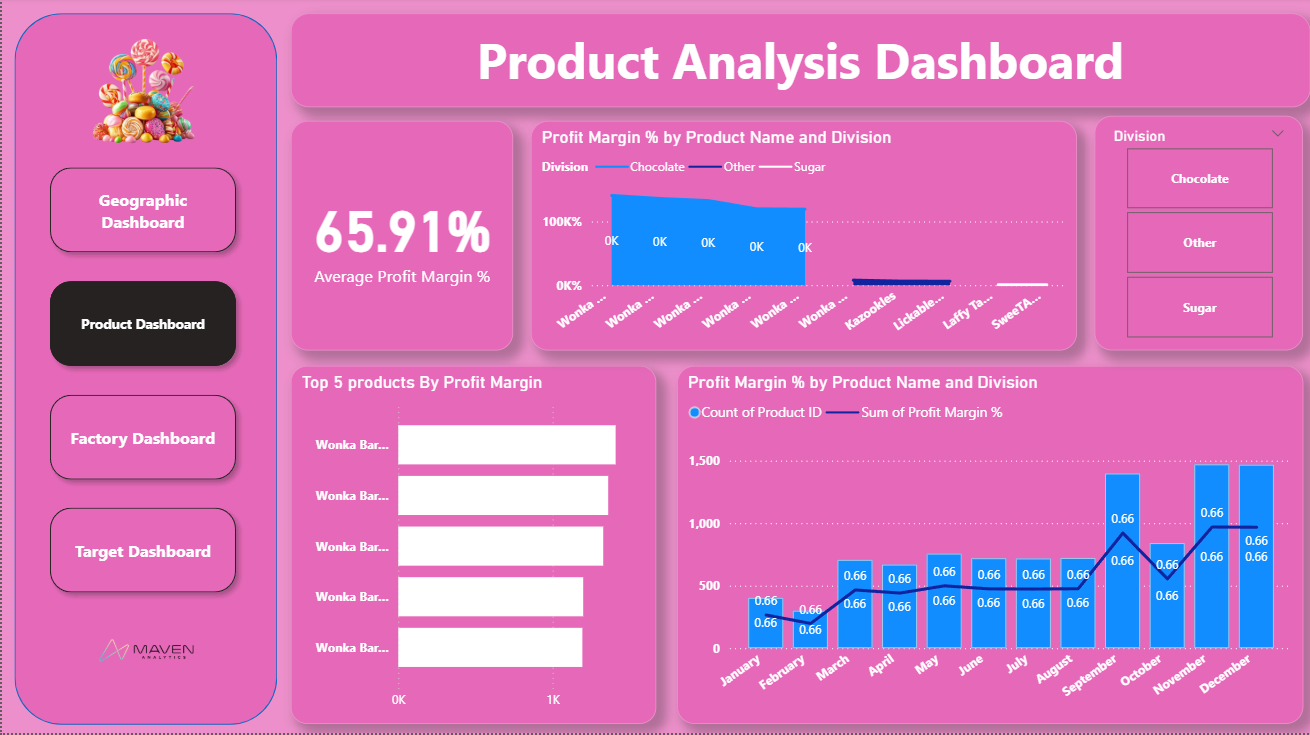

The page's visual inventory and layout, read from the dashboard file:
{"tool":"powerbi","page":{"name":"Product Dashboard","canvas":[1280,720],"ordinal":2},"visuals":[{"type":"textbox","box":[282.6,15.3,997.4,91.9],"z":0},{"type":"card","fields":{"Values":["Avg(cleaned_sales.Profit Margin %)"]},"box":[282.6,120.9,217.9,224.7],"z":1000},{"type":"clusteredBarChart","title":"Top 5 products By Profit Margin","fields":{"Y":["Sum(cleaned_sales.Profit Margin %)"],"Category":["cleaned_sales.Product Name"]},"box":[282.6,360.9,357.4,350.6],"z":2000},{"type":"stackedAreaChart","title":"Profit Margin % by Product Name and Division","fields":{"Category":["cleaned_sales.Product Name"],"Y":["Sum(cleaned_sales.Profit Margin %)"],"Series":["cleaned_sales.Division"]},"box":[517.4,120.9,534.5,224.7],"z":3000},{"type":"lineStackedColumnComboChart","title":"Profit Margin % by Product Name and Division","fields":{"Y2":["Sum(cleaned_sales.Profit Margin %)"],"Category":["cleaned_sales.Order Month.Variation.Date Hierarchy.Month"],"Y":["CountNonNull(cleaned_sales.Product ID)"]},"box":[660.4,360.9,612.8,350.6],"z":4000},{"type":"slicer","title":"Profit Margin % by Product Name and Division","fields":{"Values":["Candy_Targets.Division"]},"box":[1068.9,115.7,204.3,229.8],"z":5000},{"type":"group","id":"g1","title":"Group 1","box":[11.9,15.3,257,696.2],"z":5001},{"type":"shape","box":[11.9,15.3,257,696.2],"z":7000,"group":"g1"},{"type":"pageNavigator","box":[37.6,157.7,200.9,435.7],"z":9000,"group":"g1"},{"type":"image","box":[78.3,32.3,119.1,117.4],"z":11000,"group":"g1"},{"type":"image","box":[90.2,583.8,102.1,108.9],"z":11500,"group":"g1"}]}

Visuals, with their boxes in screenshot pixels (x1, y1, x2, y2), scaled from the page's 1280x720 canvas onto the 1310x735 screenshot:
textbox: l=289, t=16, r=1309, b=109
card - Avg(cleaned_sales.Profit Margin %): l=289, t=123, r=512, b=353
"Top 5 products By Profit Margin" clusteredBarChart: l=289, t=368, r=655, b=726
"Profit Margin % by Product Name and Division" stackedAreaChart: l=530, t=123, r=1077, b=353
"Profit Margin % by Product Name and Division" lineStackedColumnComboChart: l=676, t=368, r=1303, b=726
"Profit Margin % by Product Name and Division" slicer: l=1094, t=118, r=1303, b=353
"Group 1" group: l=12, t=16, r=275, b=726
shape: l=12, t=16, r=275, b=726
pageNavigator: l=38, t=161, r=244, b=606
image: l=80, t=33, r=202, b=153
image: l=92, t=596, r=197, b=707
